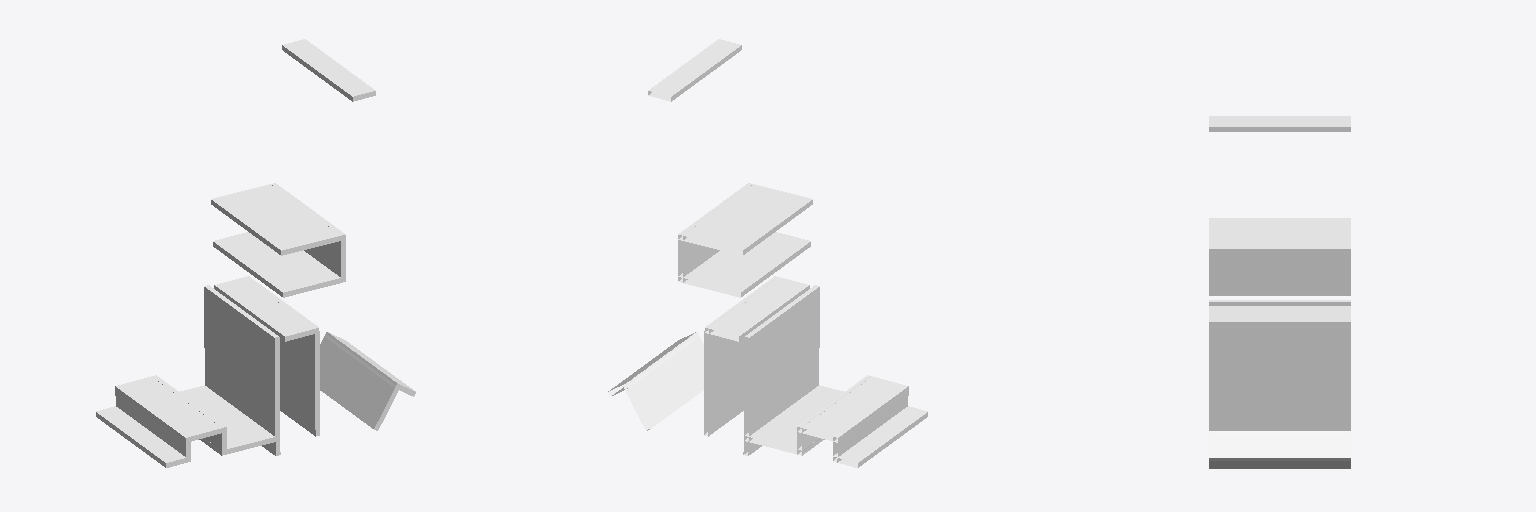
File: wall_1.obj
3 renders of one model, left to right at view 1: azimuth 30°, elevation 25°; view 2: azimuth 150°, elevation 25°; view 3: azimuth 270°, elevation 25°, orthographic.
Parts seen in each view (by area): view 1: walls; view 2: walls; view 3: walls.
Part boxes in pixels (left/top/right/bottom): walls: left=96, top=39, right=415, bottom=467; walls: left=608, top=39, right=927, bottom=467; walls: left=1209, top=116, right=1350, bottom=468.
Bounding box in the file's own units: 5.11 × 6.66 × 2.5.